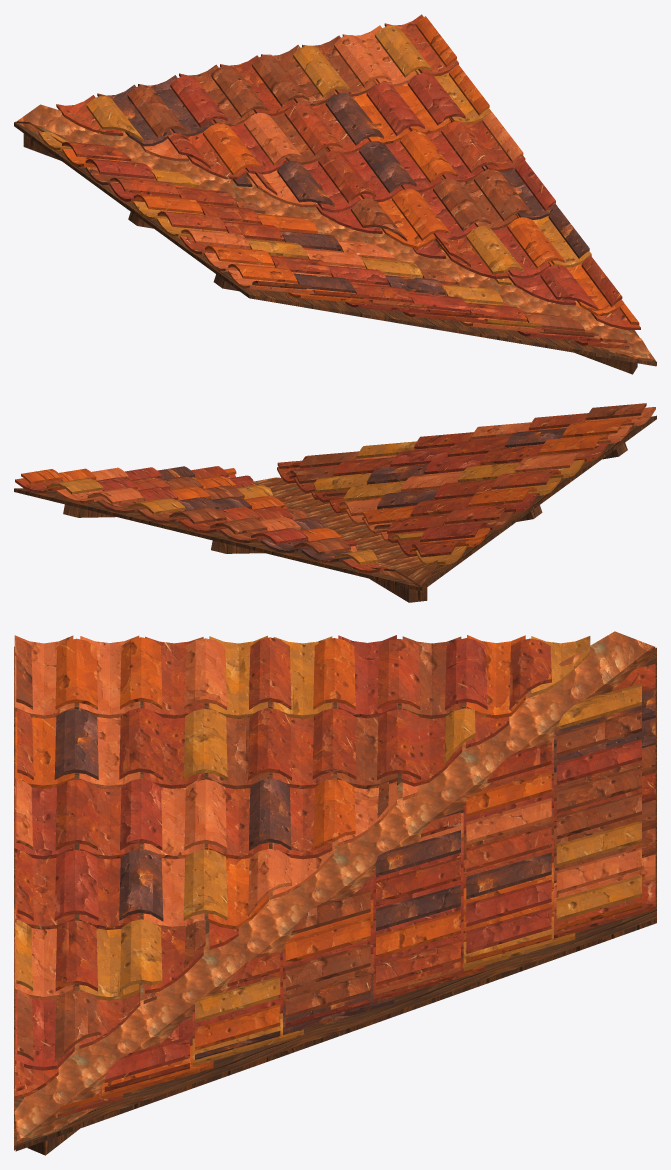
Rendered from roof_26_inner__clay_brick.glb.
3 views of the same model, one above another, from view 1: azimuth 30°, elevation 25°; view 2: azimuth 150°, elevation 25°; view 3: azimuth 270°, elevation 25° (orthographic). The views are drawn at different scales.
Parts seen in each view (by area): view 1: model; view 2: model; view 3: model.
Boxes of the visible parts, box(x1,y1,x2,y2) form: model: box(14, 14, 656, 374); model: box(14, 403, 656, 602); model: box(14, 631, 656, 1155).
Bounding box in the file's own units: 1.99 × 0.8823 × 1.99.
10 materials, 10 textured.
